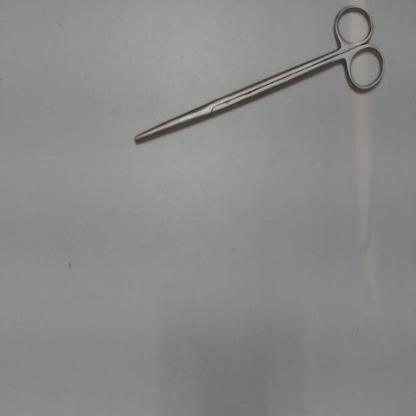9 Metzenbaum Scissors: (129, 2, 391, 150)
